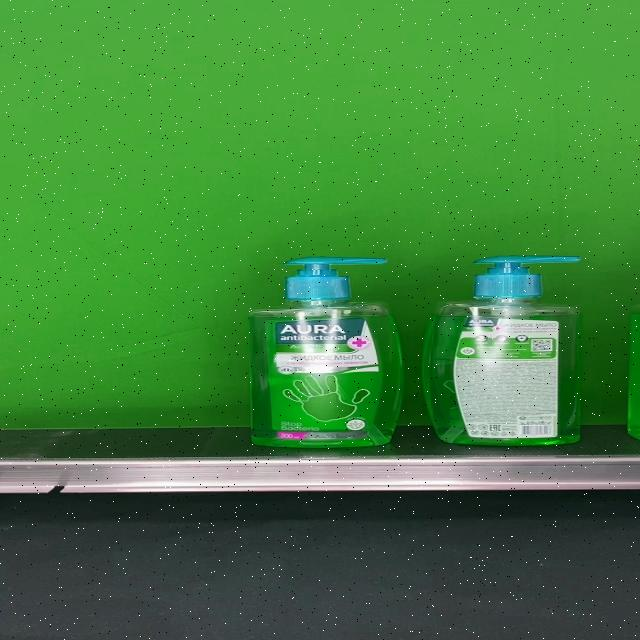Bottle: (420, 256, 584, 446), (247, 258, 404, 448)
Cap: (472, 256, 582, 298), (280, 258, 385, 300)
